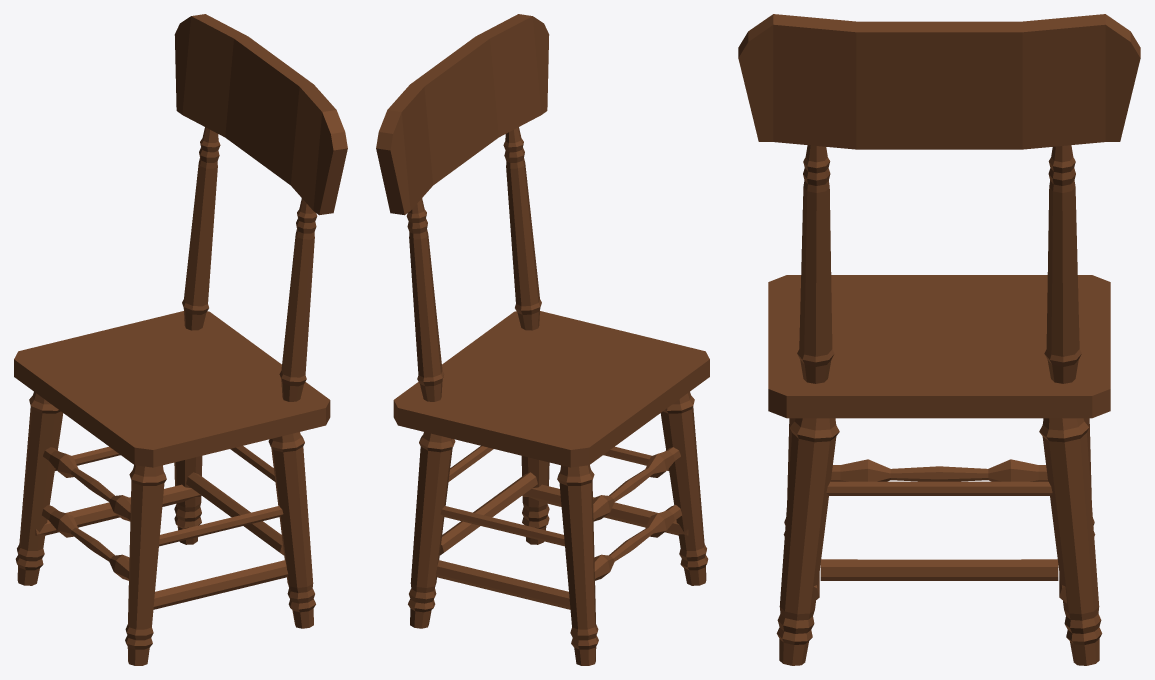
File: chair 1.fbx
3 renders of one model, left to right at view 1: azimuth 30°, elevation 25°; view 2: azimuth 150°, elevation 25°; view 3: azimuth 270°, elevation 25°, orthographic. The views are drawn at different scales.
Visible parts, largest first — view 1: chair 1; view 2: chair 1; view 3: chair 1.
Part boxes in pixels (x1,y1,x2,y2): chair 1: (14,14,347,665); chair 1: (376,14,709,665); chair 1: (738,14,1140,665).
Bounding box in the file's own units: 44.04 × 104 × 57.69.
